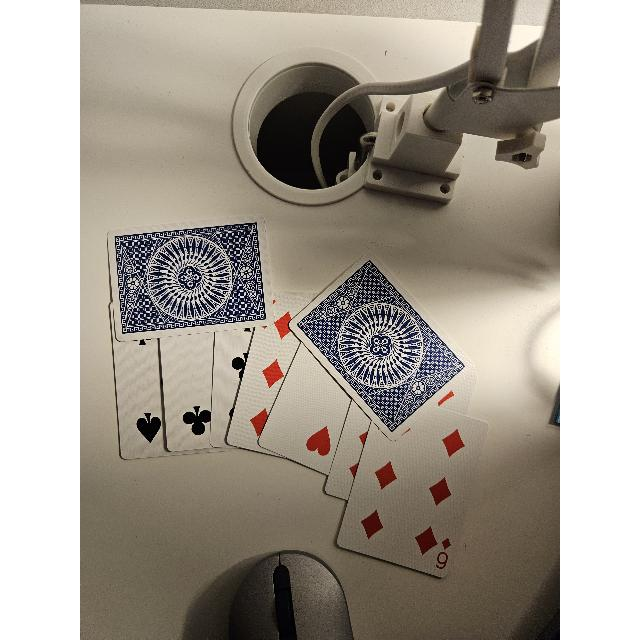6D: (436, 534, 452, 574)
